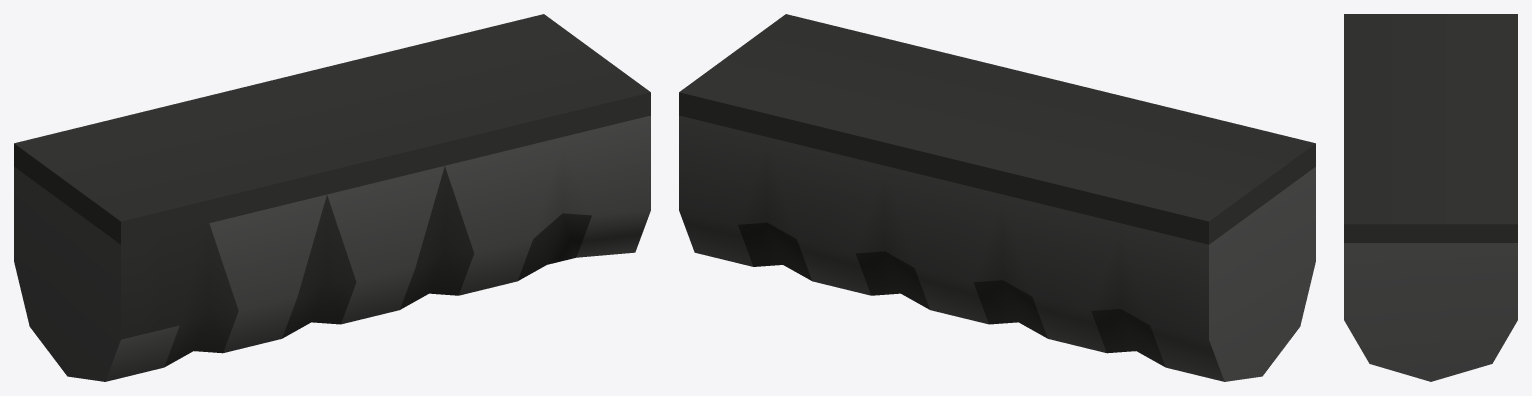
The model's file is Grip_mesh.fbx.
3 views of the same model, side by side, from view 1: azimuth 30°, elevation 25°; view 2: azimuth 150°, elevation 25°; view 3: azimuth 270°, elevation 25° (orthographic). The views are drawn at different scales.
Visible parts, largest first — view 1: Grip_mesh; view 2: Grip_mesh; view 3: Grip_mesh.
Boxes of the visible parts, left/top/right/bottom form: Grip_mesh: left=14, top=14, right=650, bottom=381; Grip_mesh: left=679, top=14, right=1315, bottom=381; Grip_mesh: left=1344, top=14, right=1517, bottom=381.
Size of the model in its own units: 12.89 by 4.51 by 4.51.
1 material, 1 textured.
